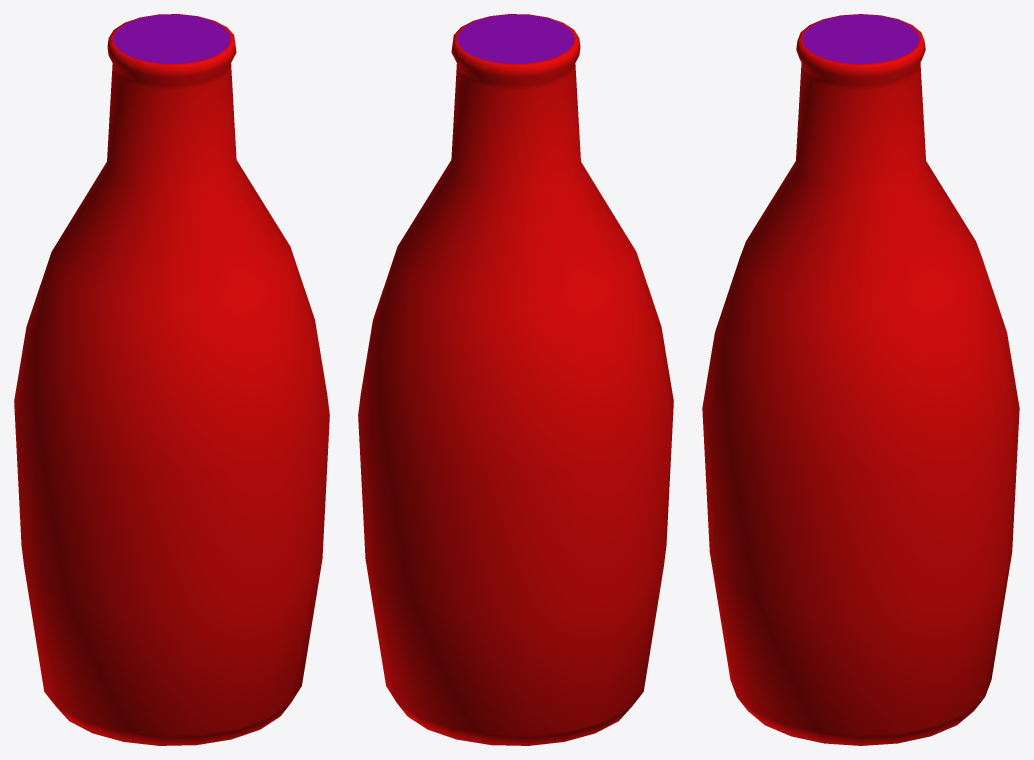
The model's file is bottles_grp.fbx.
The picture shows the model from 3 angles, left to right: view 1: azimuth 30°, elevation 25°; view 2: azimuth 150°, elevation 25°; view 3: azimuth 270°, elevation 25°; orthographic projection.
Parts seen in each view (by area): view 1: bottle_1, bottle_liquid_volume_1; view 2: bottle_1, bottle_liquid_volume_1; view 3: bottle_1, bottle_liquid_volume_1.
Part boxes in pixels (x1,y1,x2,y2): bottle_1: (14,14,329,745); bottle_liquid_volume_1: (113,14,230,63); bottle_1: (358,14,673,745); bottle_liquid_volume_1: (457,14,574,63); bottle_1: (702,14,1019,745); bottle_liquid_volume_1: (802,14,919,64).
Bounding box in the file's own units: 11.14 × 25.43 × 11.14.
